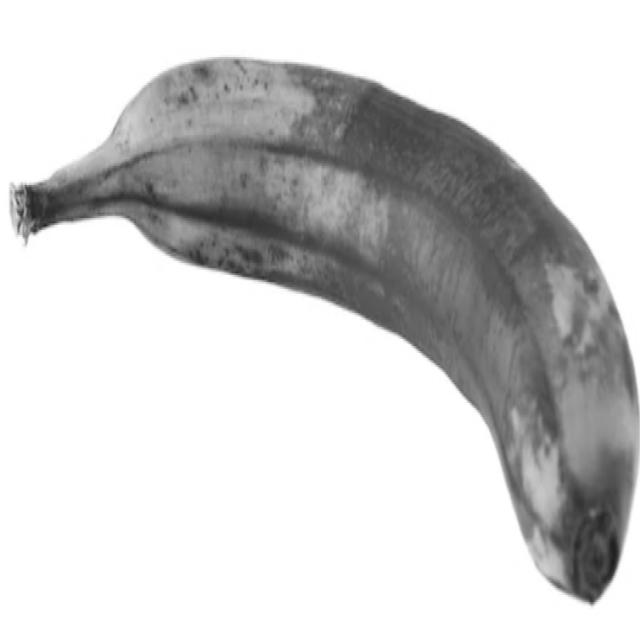Rotten: (11, 44, 640, 628)
